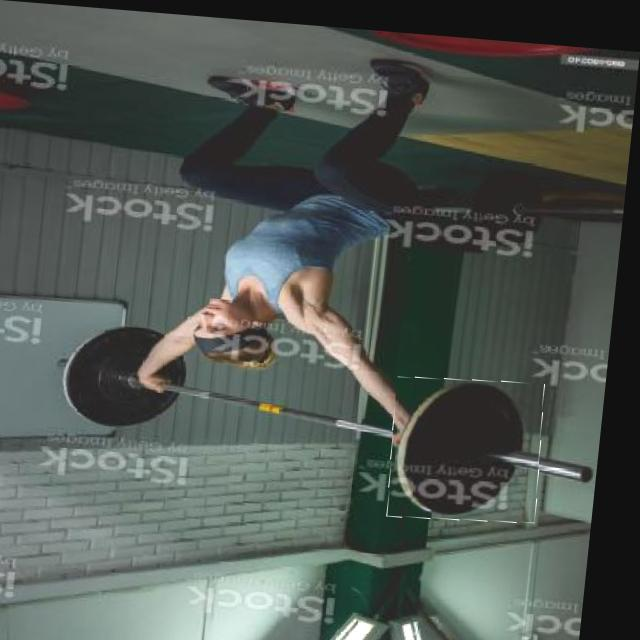barbell: (396, 367, 557, 517)
